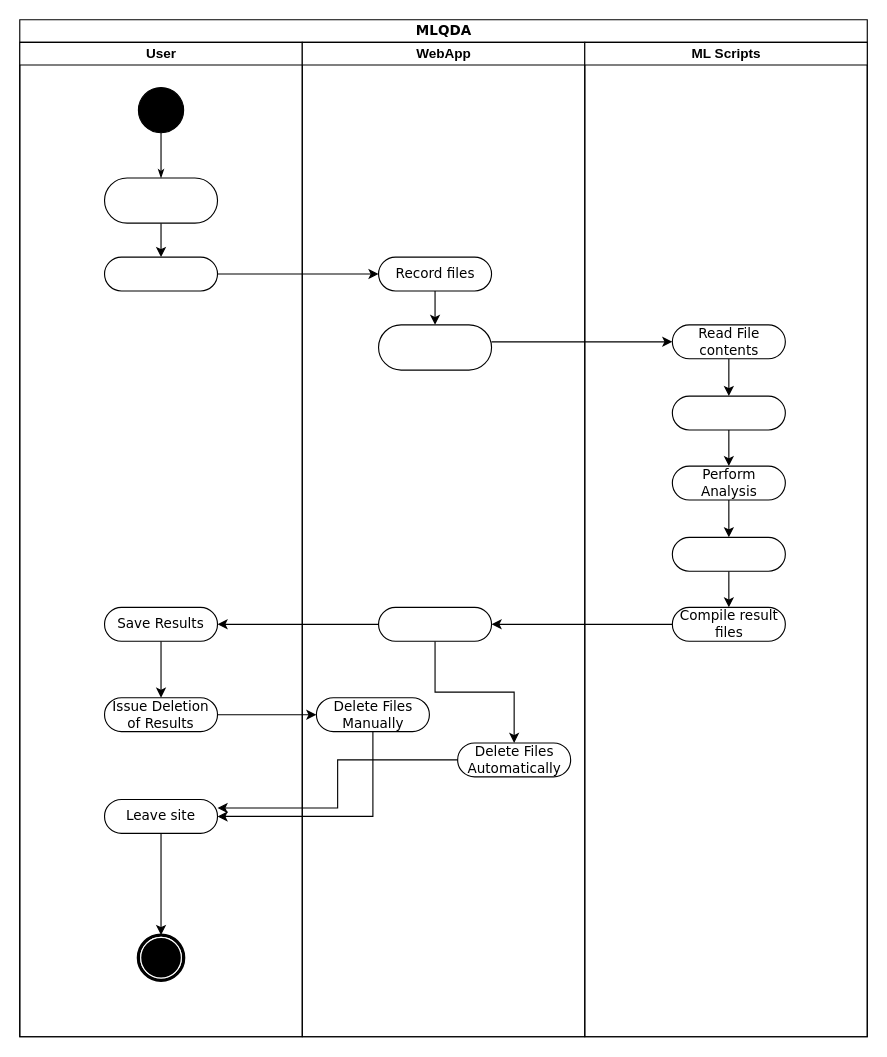
Image size: 887x1057. Some labels were removed from this diagram. The shapes that lost their labels are listed below. From the top down, each one's centre as x and y in pixels, then its label:
the point at 160,200: Select type of Analyser
the point at 160,273: Upload files
the point at 434,347: Create Analyser instance
the point at 728,412: Transform data
the point at 728,553: Extract Results
the point at 434,623: Render page with results
